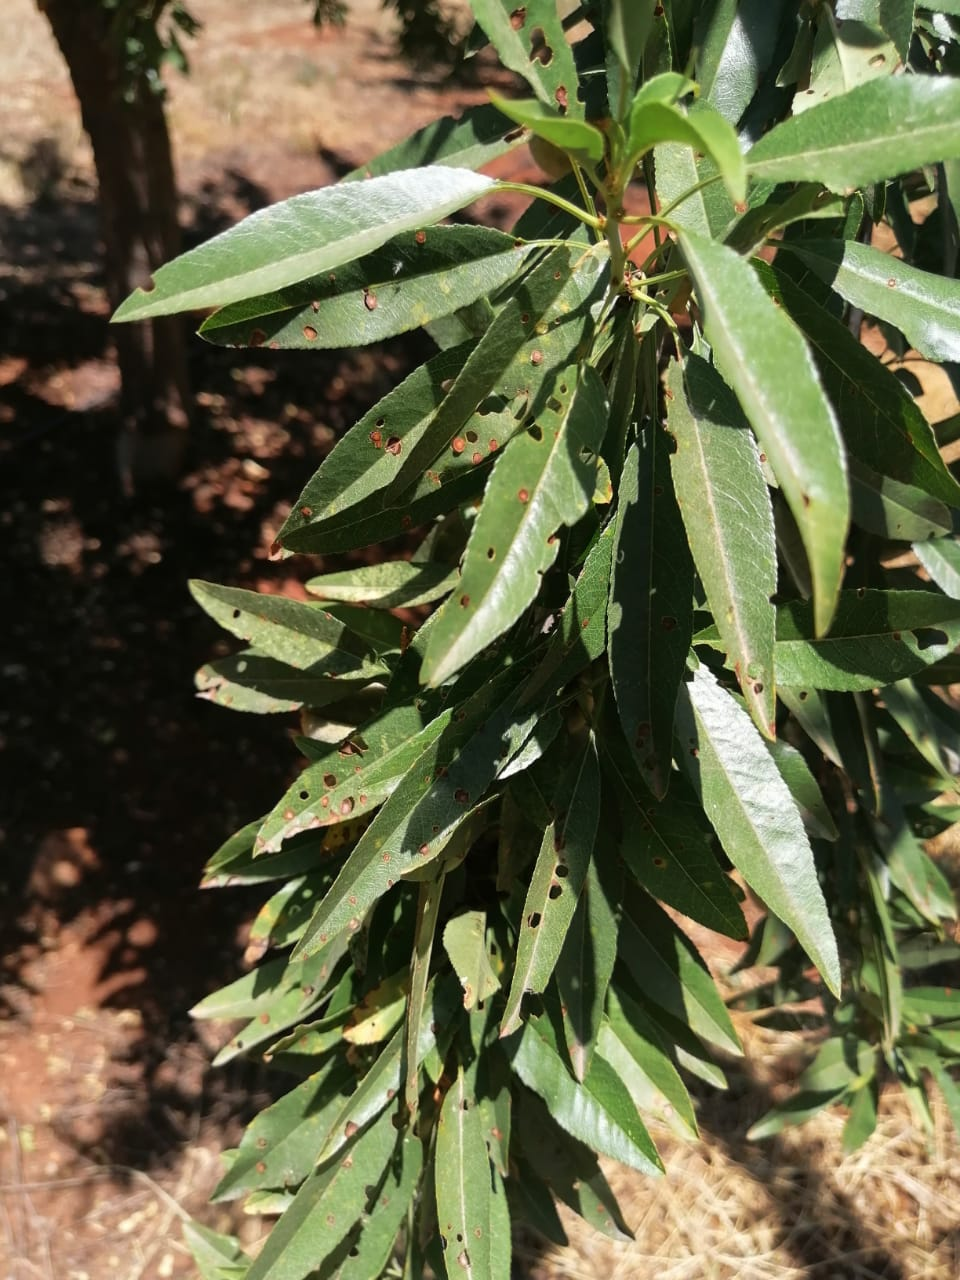coryneum: (287, 635, 575, 968), (418, 361, 606, 684), (268, 331, 482, 558), (659, 357, 782, 746), (192, 225, 538, 350), (245, 700, 459, 858), (501, 730, 602, 1035)
